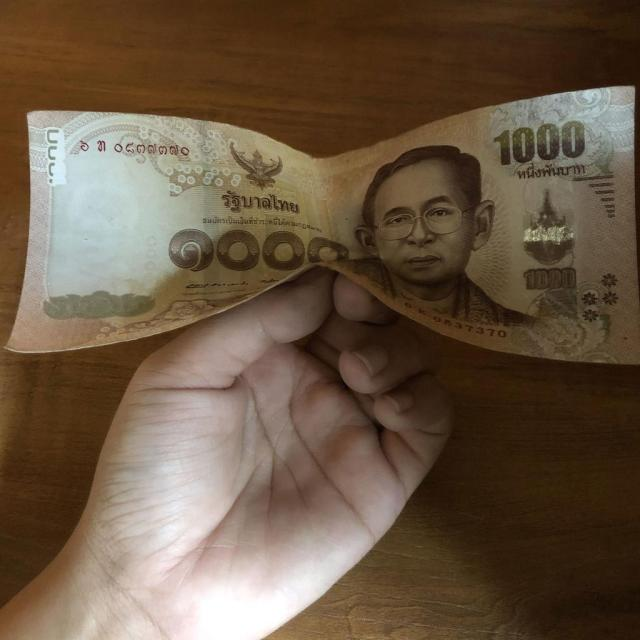THAI1000: (5, 88, 639, 366)
